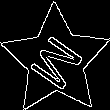M_SE: (23, 27, 88, 94)
